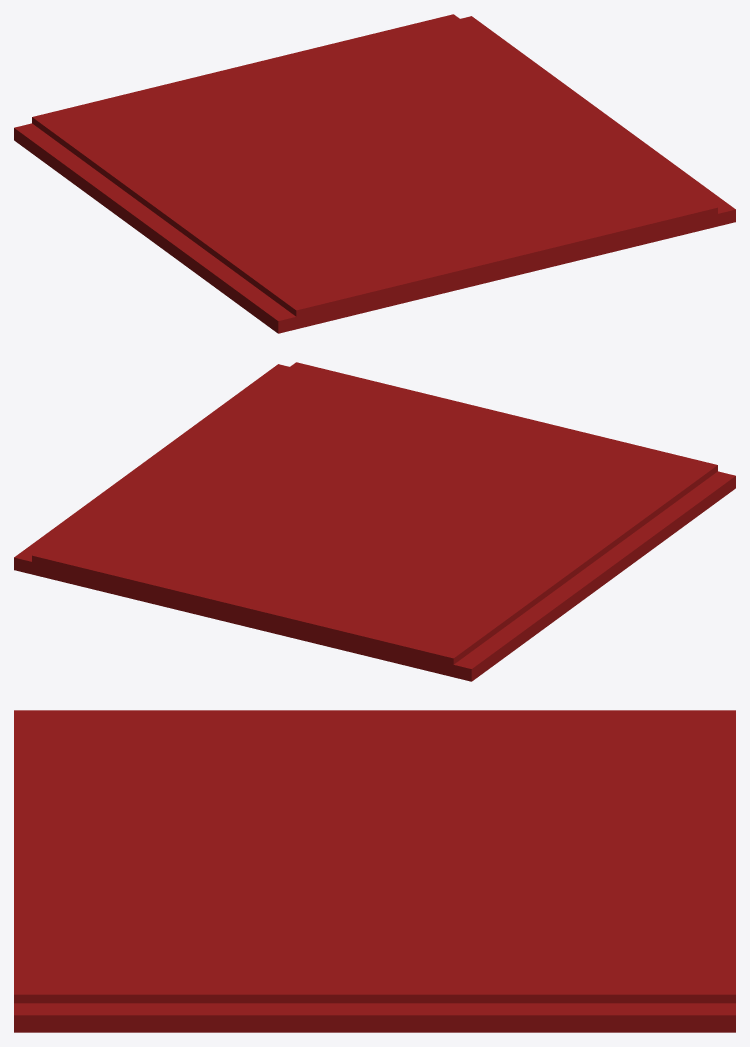
The model's file is sheet_nylon.glb.
3 renders of one model, top to bottom at view 1: azimuth 30°, elevation 25°; view 2: azimuth 150°, elevation 25°; view 3: azimuth 270°, elevation 25°, orthographic. The views are drawn at different scales.
Parts seen in each view (by area): view 1: sheet_nylon:compound; view 2: sheet_nylon:compound; view 3: sheet_nylon:compound.
Boxes of the visible parts, x1,y1,x2,y2 form: sheet_nylon:compound: (14,14,735,333); sheet_nylon:compound: (14,362,735,681); sheet_nylon:compound: (14,710,735,1032).
Bounding box in the file's own units: 0.152 × 0.006 × 0.152.
